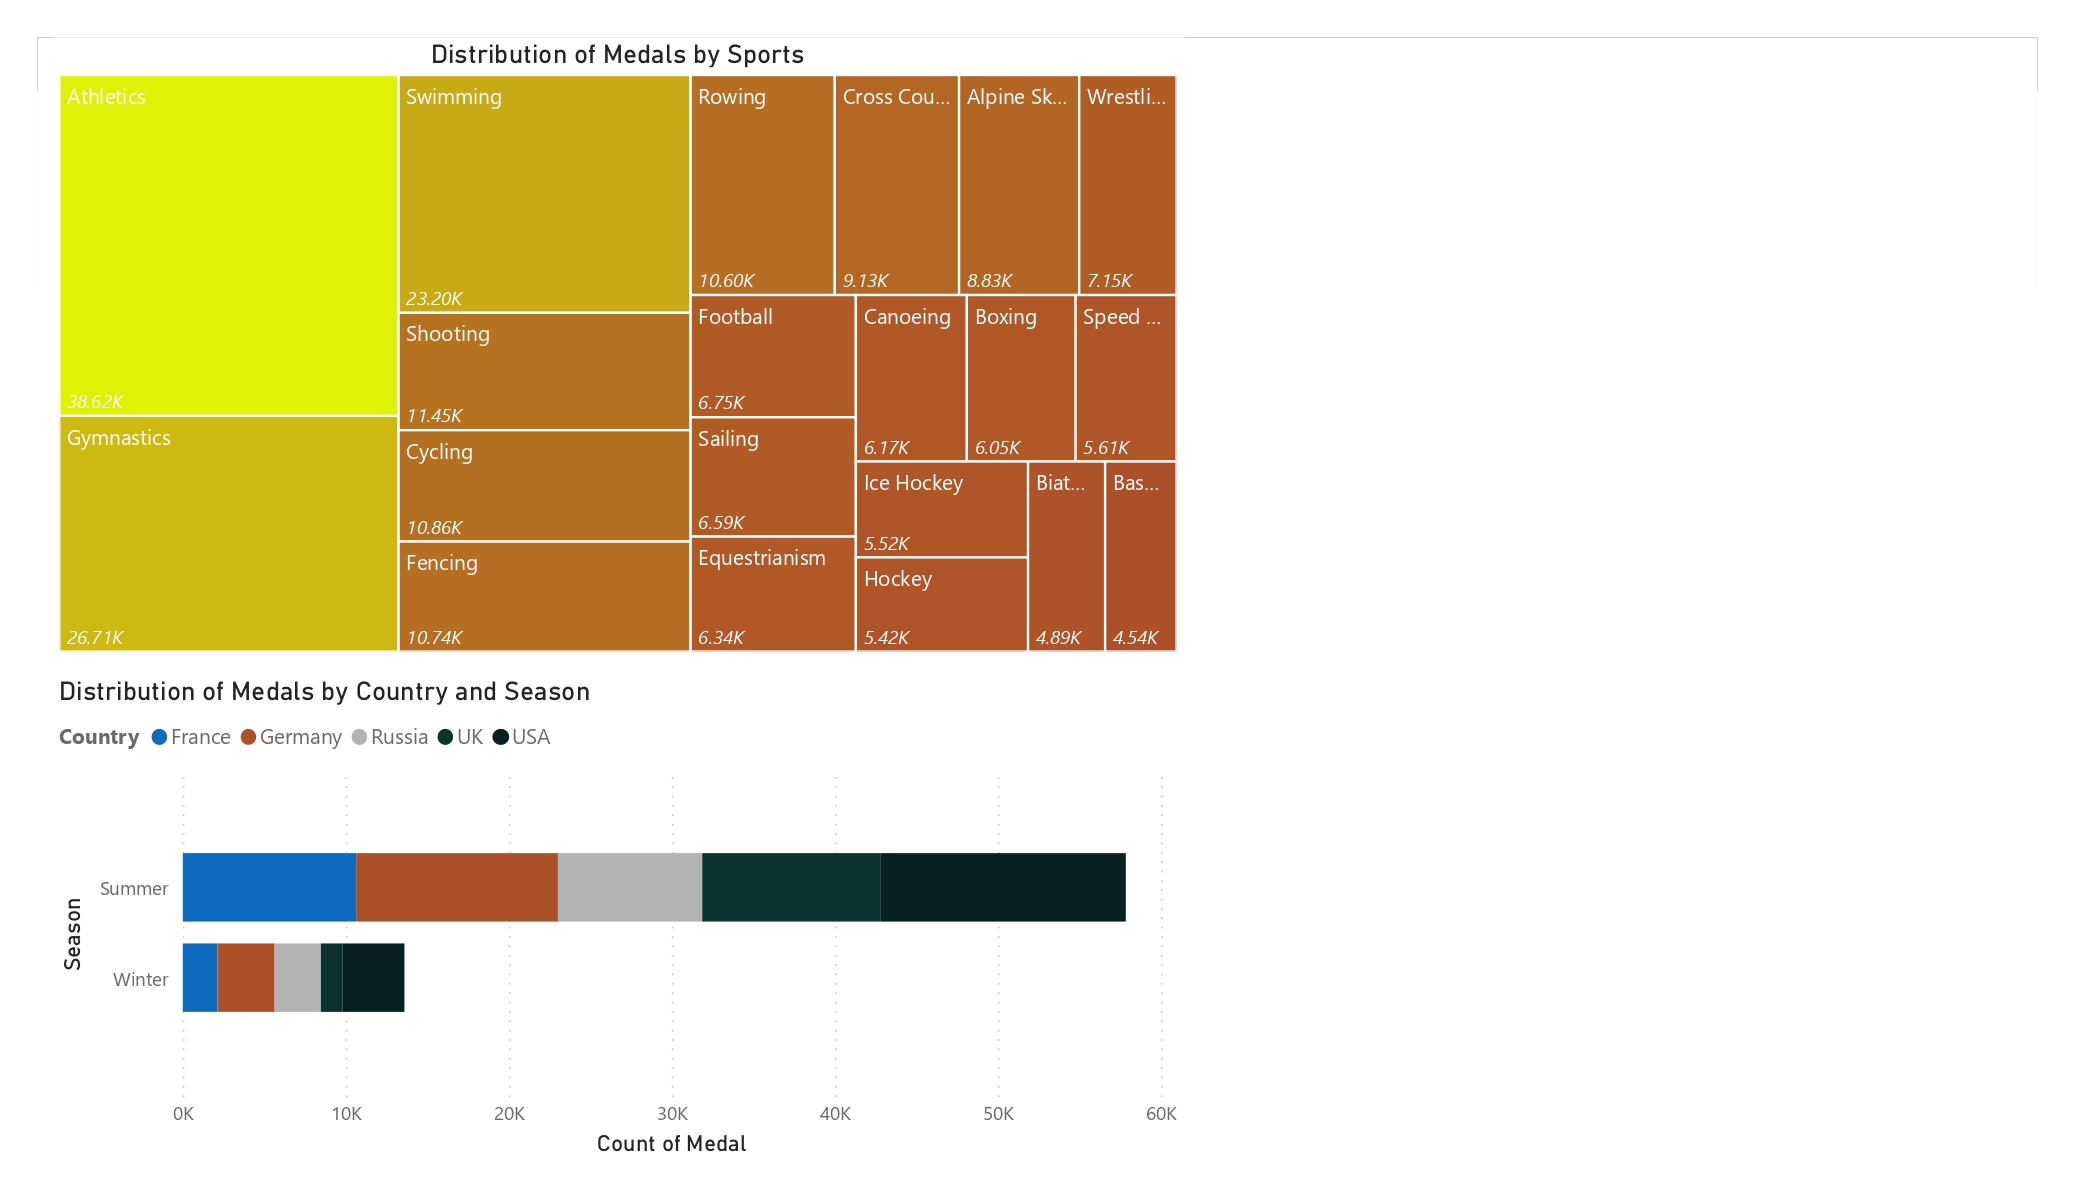

What the dashboard file says about the page in this screenshot:
{"tool":"powerbi","page":{"name":"Page 2","canvas":[1280,720],"ordinal":1},"visuals":[{"type":"treemap","title":"Distribution of Medals by Sports","fields":{"Group":["Olympics Final.Sport"],"Values":["CountNonNull(Olympics Final.Medal)"]},"box":[9.4,0,725,398.3],"z":0},{"type":"barChart","title":"Distribution of Medals by Country and Season","fields":{"Category":["Olympics Final.Season"],"Y":["CountNonNull(Olympics Final.Medal)"],"Series":["Olympics Final.Country"]},"box":[9,408,725,312],"z":1000}]}

Visuals, with their boxes in screenshot pixels (x1, y1, x2, y2):
"Distribution of Medals by Sports" treemap: (left=52, top=38, right=1185, bottom=660)
"Distribution of Medals by Country and Season" barChart: (left=52, top=675, right=1184, bottom=1162)
